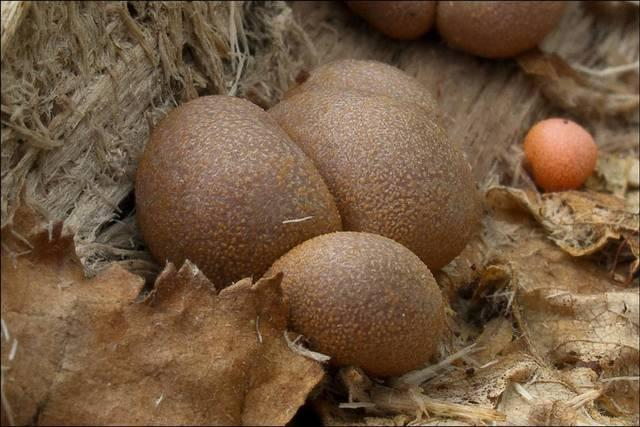Non-edible Mushroom: (133, 56, 482, 377), (265, 57, 481, 271), (133, 93, 343, 289), (260, 229, 453, 379), (435, 0, 566, 58), (522, 116, 598, 191), (345, 0, 436, 40)
